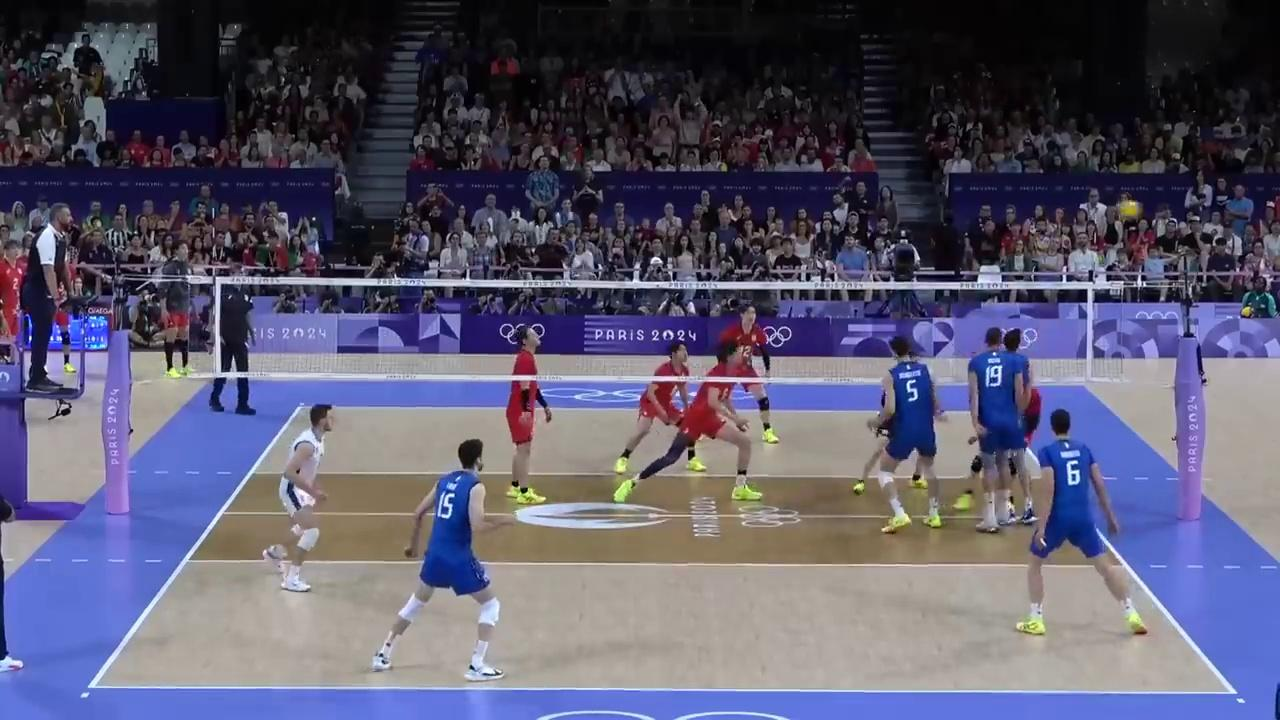ball: (1120, 202, 1140, 220)
